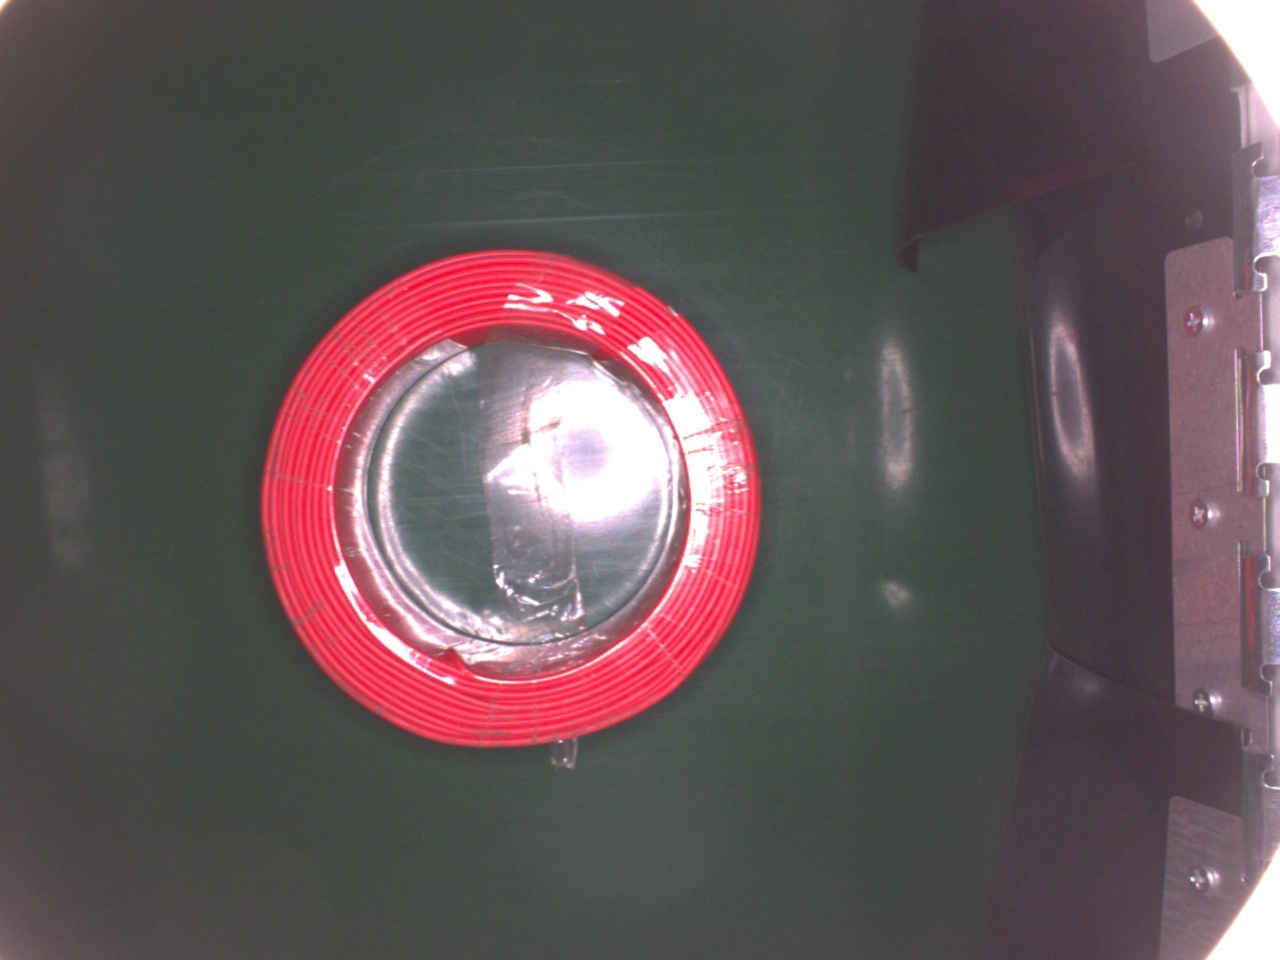red: (248, 250, 764, 749)
